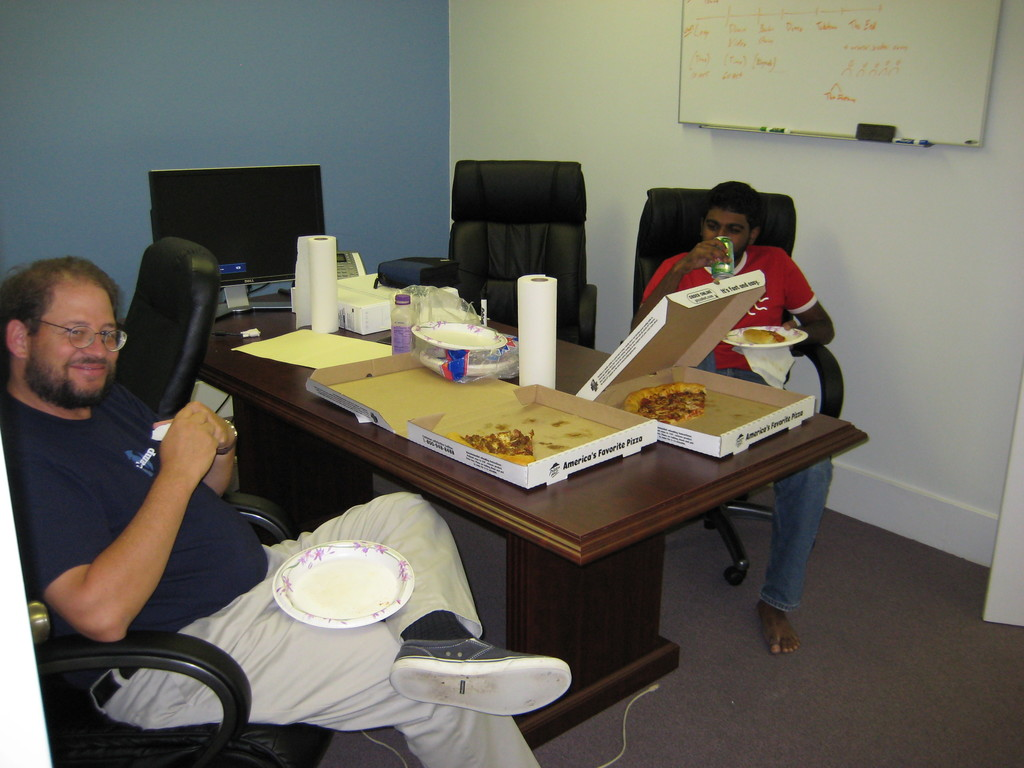plate: (282, 546, 410, 638)
